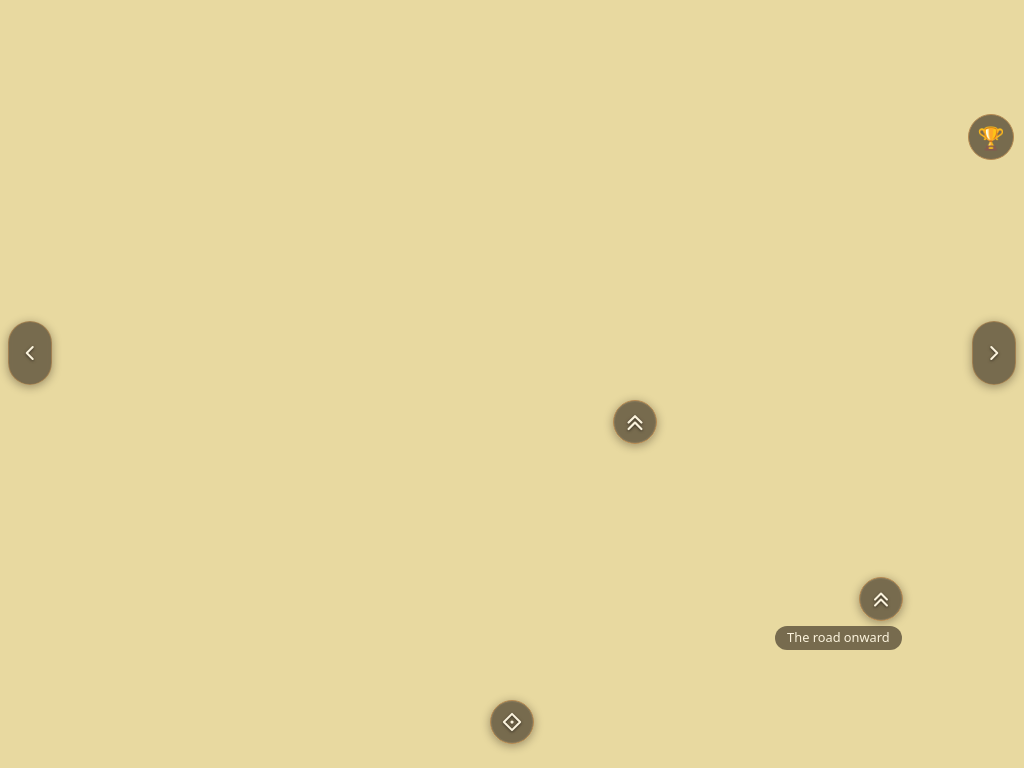
Test: achievements panel › opens from the HUD button, loads the player-facing list, and shows locked/unlocked/secret states
Click the button with test id "open-achievements" at (991, 137), box [968,114,1014,160]
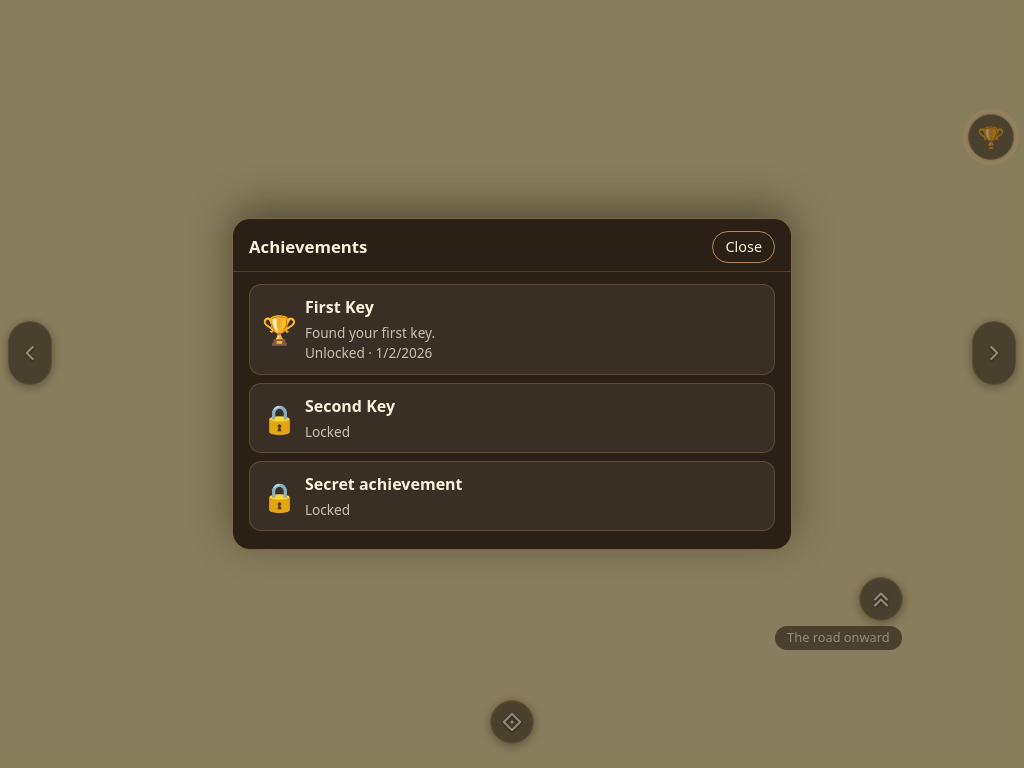
Now the list item with test id "achievement-ach_first_key" shows "First Key", box [305,296,374,318]
Now the list item with test id "achievement-ach_first_key" shows "Found your first key.", box [305,323,435,342]
Now the list item with test id "achievement-ach_locked" shows "Second Key", box [305,394,395,416]
